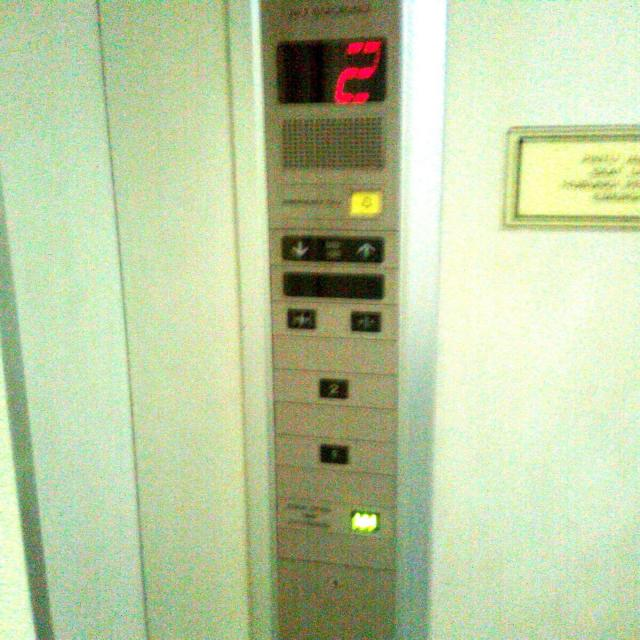2: (318, 378, 349, 399)
alarm: (348, 190, 384, 214)
blur: (350, 310, 382, 332), (348, 510, 379, 532), (286, 308, 316, 330), (319, 443, 349, 464)
led: (274, 36, 388, 103), (281, 272, 386, 299)
